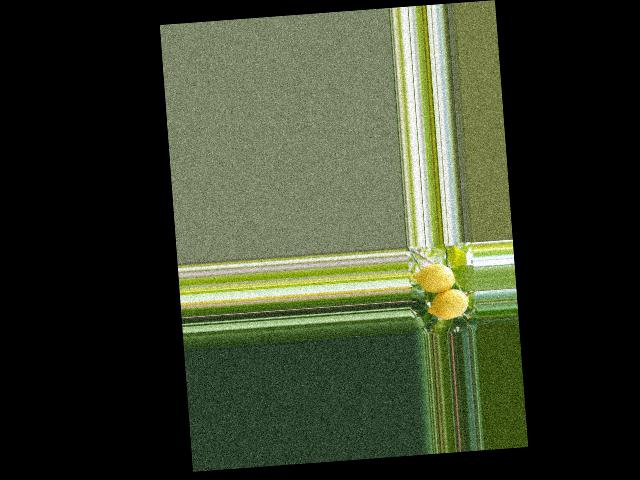lemon: (412, 259, 458, 296)
